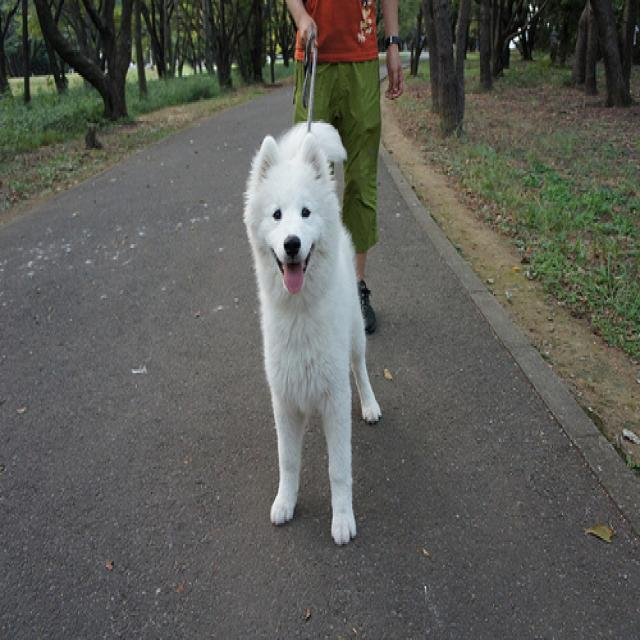dog-samoyed: (237, 111, 385, 552)
